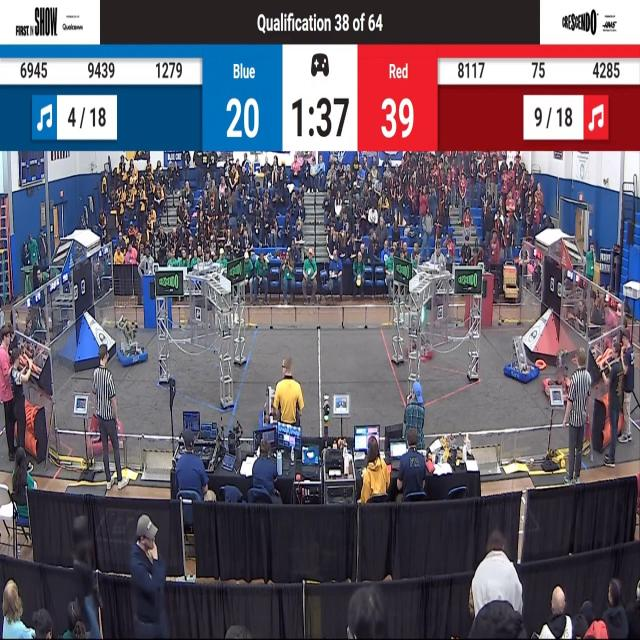Robot: (503, 332, 538, 386), (542, 348, 572, 409), (86, 409, 124, 456), (407, 302, 434, 366), (114, 315, 145, 370), (257, 379, 283, 437)
